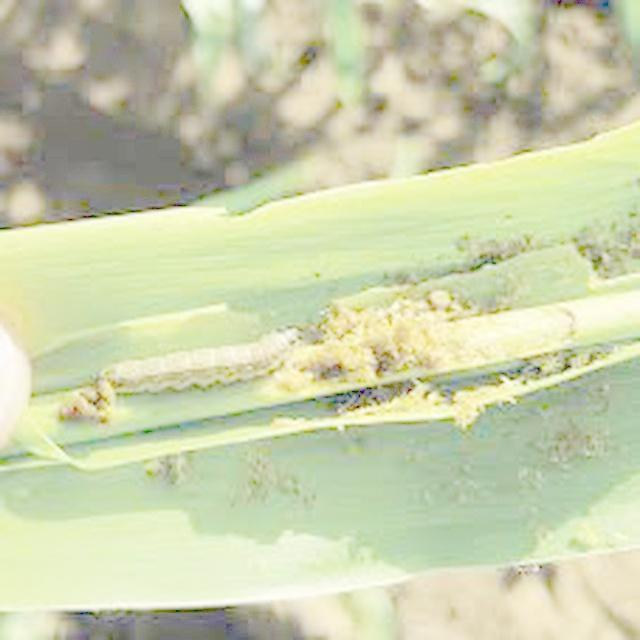gusano_cogollero: (90, 325, 296, 394)
